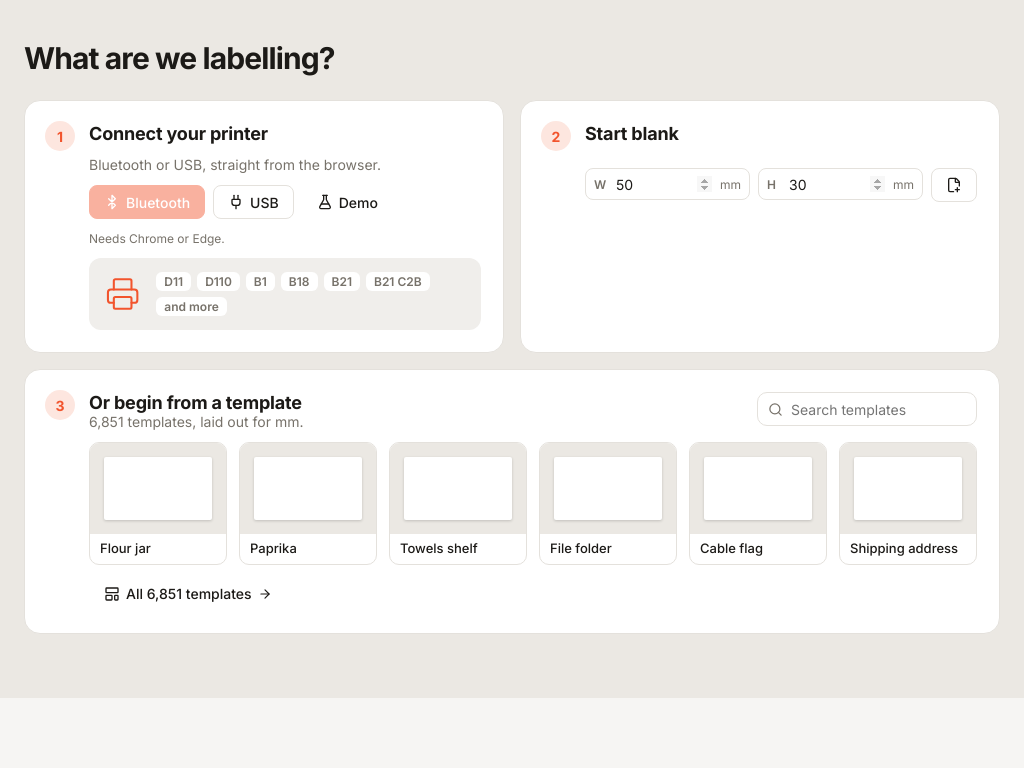
Test: start screen › says when nothing matches
Type "zzqqxx" into the search field labelled "Search templates" at (878, 409), box [789,400,966,418]
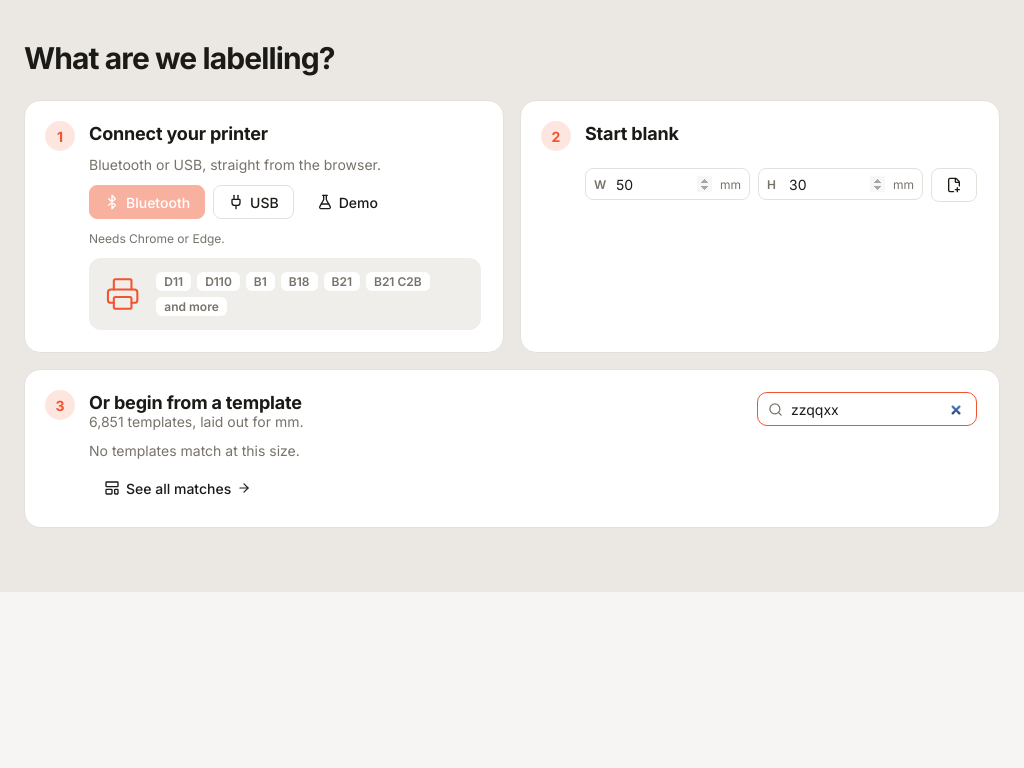
Now the text "No templates match at this size." is shown, box [89,442,300,459]
